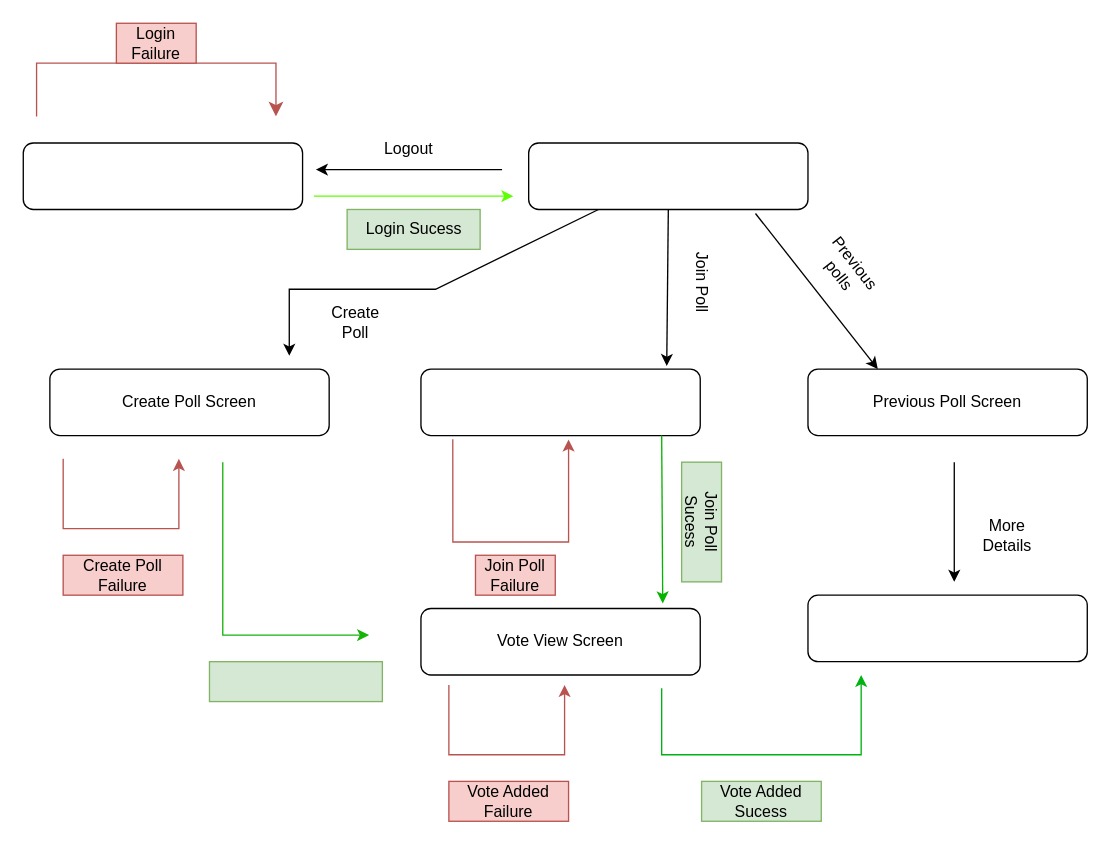
Image size: 1111x845. Some labels were removed from this diagram. The shapes that lost their labels are listed below. From the top down, each one's box as (x1, y1, x2, y2) in pixels, then its label:
(22, 142, 303, 209): Login Screen
(527, 142, 808, 209): Main Menu
(420, 368, 700, 436): Join Poll Screen
(807, 594, 1087, 662): Poll Statistic Screen
(208, 660, 382, 702): Create Poll sucess
